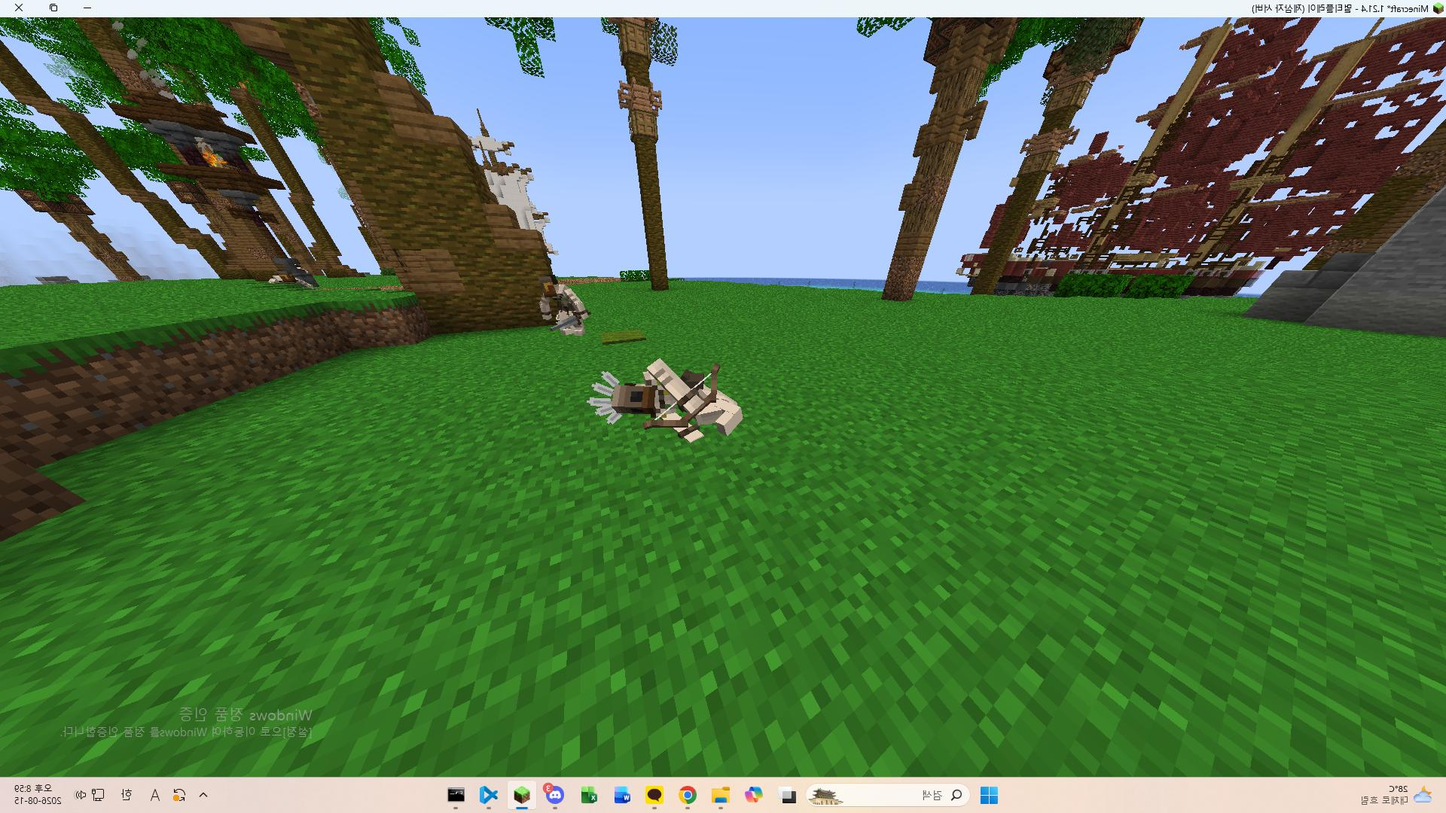bow_indian: (541, 327, 763, 455)
